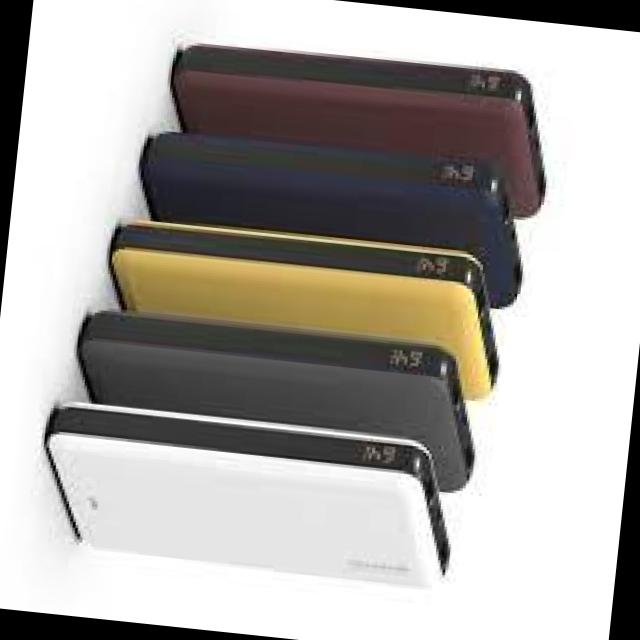portable-charger: (26, 394, 468, 592), (126, 114, 538, 318), (98, 207, 516, 408), (64, 306, 490, 499), (158, 28, 564, 225)
